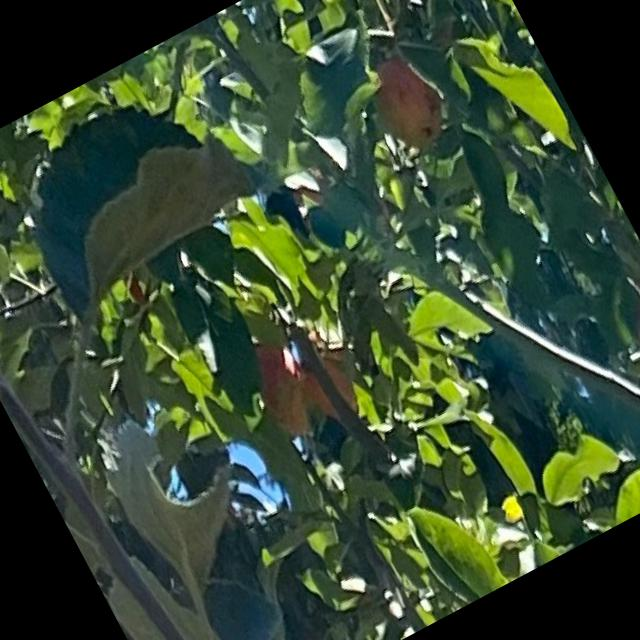Apples: (234, 330, 324, 444), (361, 49, 454, 154), (284, 322, 374, 430), (621, 291, 639, 385)
